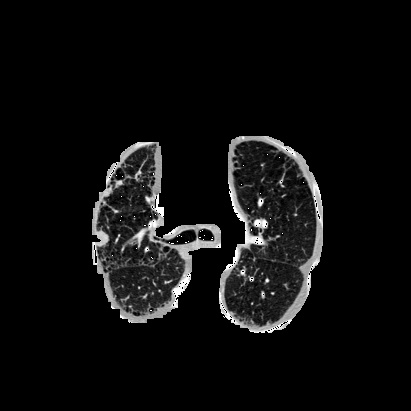PN: (93, 230, 109, 246)
